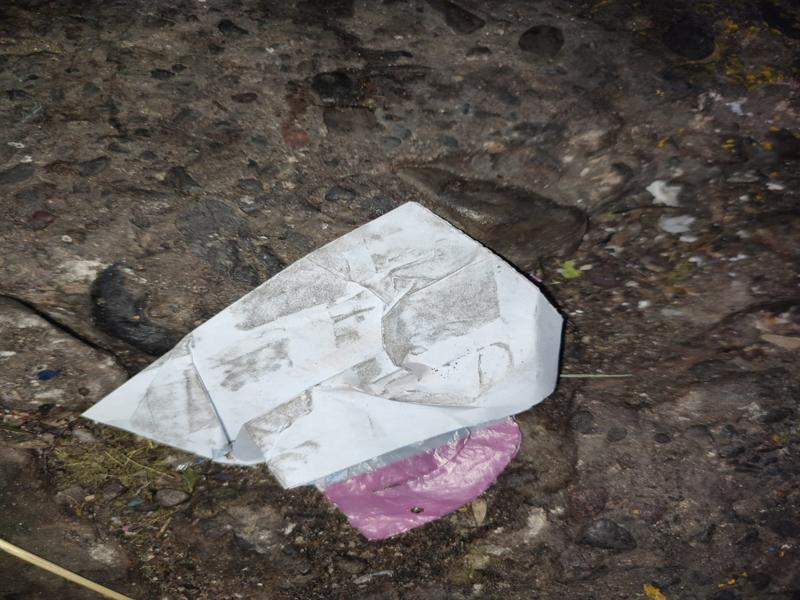papel: (82, 202, 565, 542)
